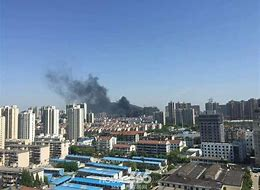smoke: (48, 69, 139, 113)
